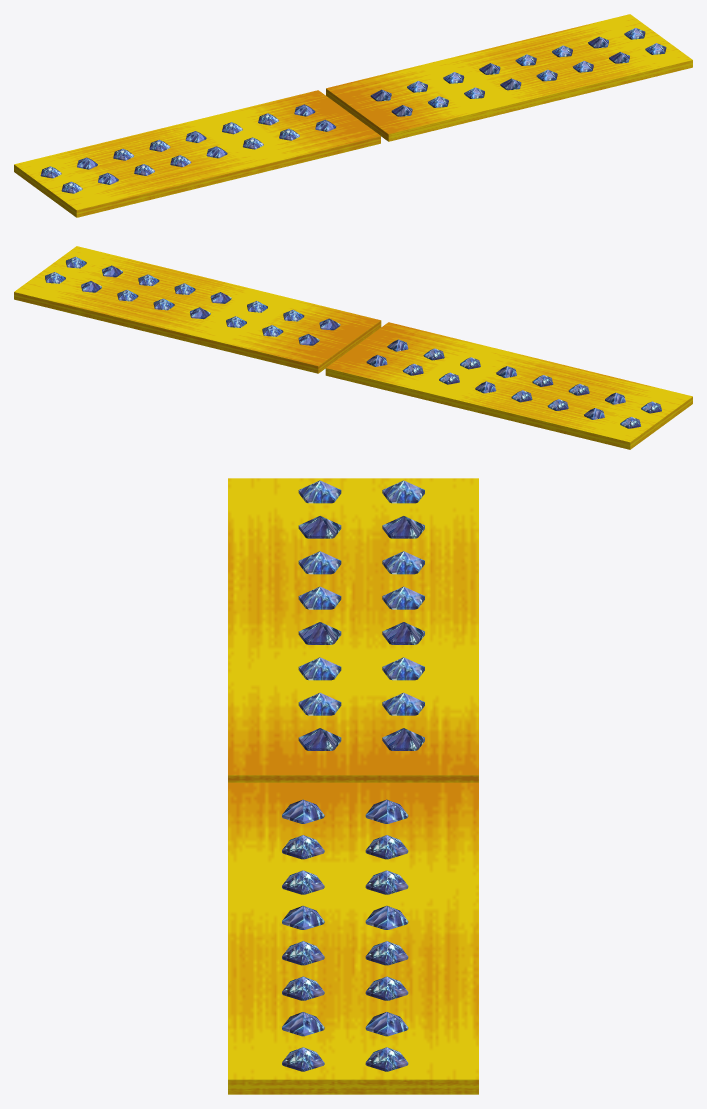
File: EstacionPanelIzquierdo.obj
The picture shows the model from 3 angles, top to bottom: view 1: azimuth 30°, elevation 25°; view 2: azimuth 150°, elevation 25°; view 3: azimuth 270°, elevation 25°; orthographic projection. The views are drawn at different scales.
Visible parts, largest first — view 1: Cube.009_hexztech_dorado, Cube.009_cristal; view 2: Cube.009_hexztech_dorado, Cube.009_cristal; view 3: Cube.009_hexztech_dorado, Cube.009_cristal.
Part boxes in pixels (<box>): Cube.009_hexztech_dorado: <box>14,14,692,217</box>; Cube.009_cristal: <box>40,27,666,193</box>; Cube.009_hexztech_dorado: <box>14,246,692,449</box>; Cube.009_cristal: <box>45,256,661,428</box>; Cube.009_hexztech_dorado: <box>228,478,478,1094</box>; Cube.009_cristal: <box>282,480,424,1071</box>.
Bounding box in the file's own units: 8.5 × 0.3 × 1.5.
